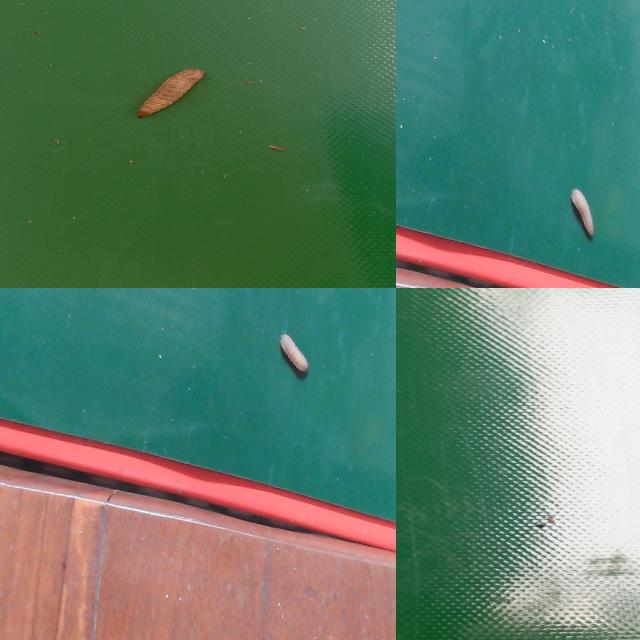Maggot: (136, 69, 205, 120), (280, 334, 311, 379), (571, 190, 598, 241)
